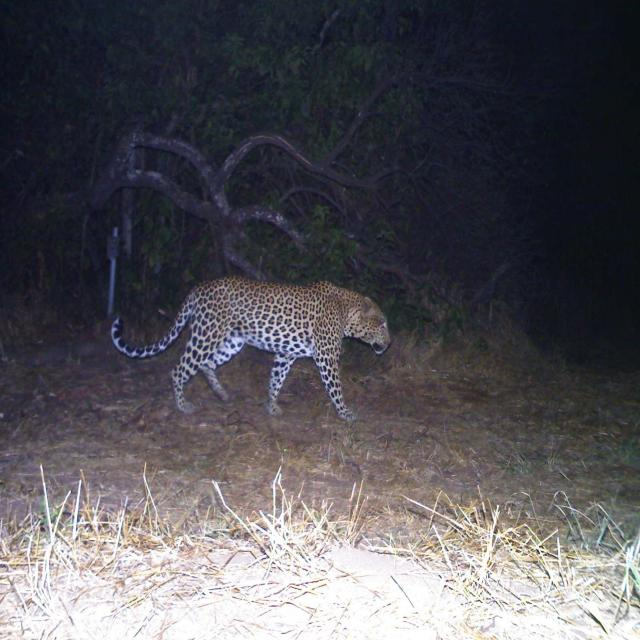Leopard: (106, 266, 400, 426)
